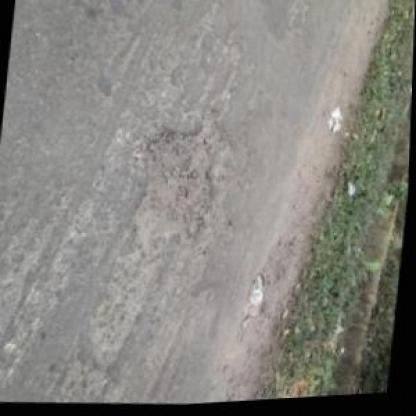pothole: (131, 105, 228, 258)
